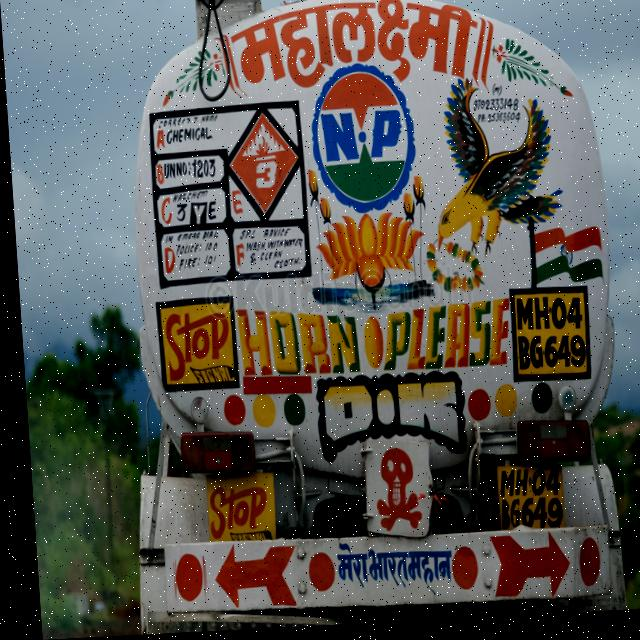plate: (504, 293, 589, 388), (492, 470, 558, 539)
